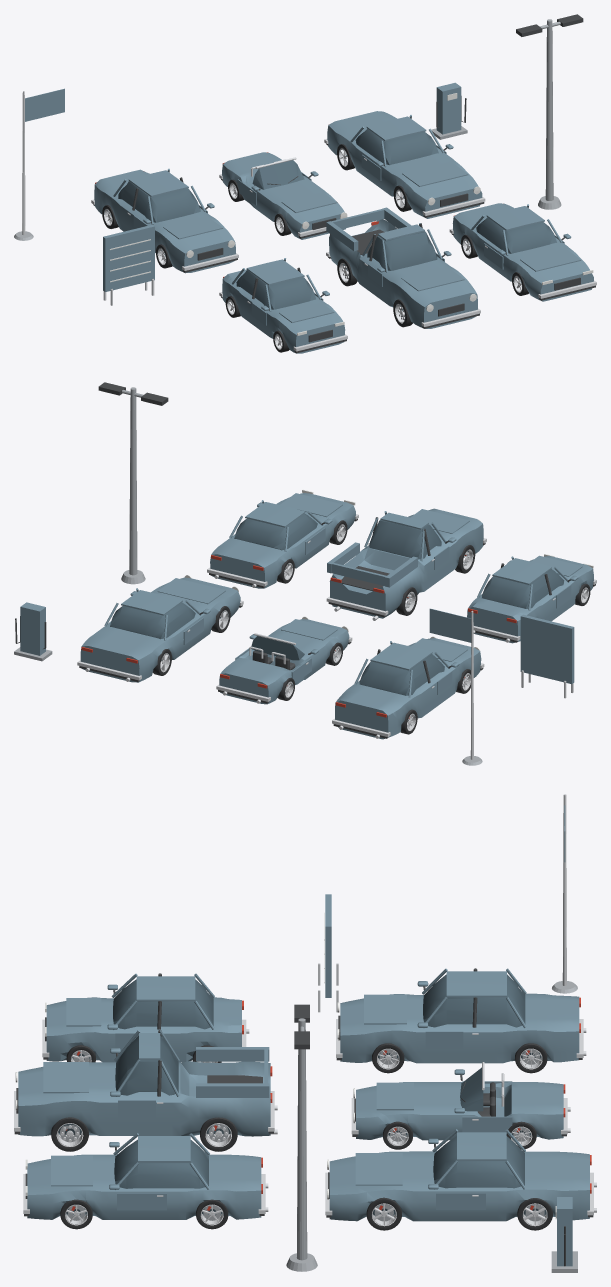
File: road-car-showroom-lineup-classic-forecourt-2acd6293__15172.glb
3 views of the same model, one above another, from view 1: azimuth 30°, elevation 25°; view 2: azimuth 150°, elevation 25°; view 3: azimuth 270°, elevation 25° (orthographic). The views are drawn at different scales.
Parts seen in each view (by area): view 1: 004-classic-1950s-pickup/0, 002-classic-1970s-muscle-coupe/0, 000-classic-1960s-saloon/0, 005-classic-1990s-sports-coupe/0, 003-classic-1980s-hot-hatch/0, 001-classic-1960s-roadster/0, 006-price-board/1, 000-classic-1960s-saloon/1, 002-classic-1970s-muscle-coupe/1, 004-classic-1950s-pickup/1, 005-classic-1990s-sports-coupe/1, 003-classic-1980s-hot-hatch/1 (+15 smaller); view 2: 004-classic-1950s-pickup/0, 002-classic-1970s-muscle-coupe/0, 000-classic-1960s-saloon/0, 005-classic-1990s-sports-coupe/0, 003-classic-1980s-hot-hatch/0, 001-classic-1960s-roadster/0, 006-price-board/1, 000-classic-1960s-saloon/1, 002-classic-1970s-muscle-coupe/1, 004-classic-1950s-pickup/1, 008-forecourt-lamp/0, 003-classic-1980s-hot-hatch/1 (+13 smaller); view 3: 004-classic-1950s-pickup/0, 002-classic-1970s-muscle-coupe/0, 000-classic-1960s-saloon/0, 005-classic-1990s-sports-coupe/0, 003-classic-1980s-hot-hatch/0, 001-classic-1960s-roadster/0, 000-classic-1960s-saloon/1, 002-classic-1970s-muscle-coupe/1, 003-classic-1980s-hot-hatch/1, 005-classic-1990s-sports-coupe/1, 008-forecourt-lamp/0, 004-classic-1950s-pickup/1 (+16 smaller).
Boxes of the visible parts, bbox=[...] form: 004-classic-1950s-pickup/0: bbox=[326, 207, 477, 328]; 002-classic-1970s-muscle-coupe/0: bbox=[327, 111, 482, 218]; 000-classic-1960s-saloon/0: bbox=[94, 168, 235, 273]; 005-classic-1990s-sports-coupe/0: bbox=[452, 203, 593, 301]; 003-classic-1980s-hot-hatch/0: bbox=[222, 258, 345, 353]; 001-classic-1960s-roadster/0: bbox=[222, 152, 345, 239]; 006-price-board/1: bbox=[103, 224, 154, 291]; 000-classic-1960s-saloon/1: bbox=[118, 181, 200, 222]; 002-classic-1970s-muscle-coupe/1: bbox=[355, 128, 438, 165]; 004-classic-1950s-pickup/1: bbox=[367, 231, 437, 270]; 005-classic-1990s-sports-coupe/1: bbox=[476, 217, 556, 253]; 003-classic-1980s-hot-hatch/1: bbox=[236, 270, 315, 309]; 004-classic-1950s-pickup/0: bbox=[327, 508, 483, 618]; 002-classic-1970s-muscle-coupe/0: bbox=[80, 577, 240, 682]; 000-classic-1960s-saloon/0: bbox=[335, 638, 481, 739]; 005-classic-1990s-sports-coupe/0: bbox=[210, 493, 355, 588]; 003-classic-1980s-hot-hatch/0: bbox=[467, 556, 593, 643]; 001-classic-1960s-roadster/0: bbox=[219, 619, 349, 704]; 006-price-board/1: bbox=[520, 614, 574, 684]; 000-classic-1960s-saloon/1: bbox=[359, 654, 444, 695]; 002-classic-1970s-muscle-coupe/1: bbox=[110, 602, 195, 639]; 004-classic-1950s-pickup/1: bbox=[369, 520, 441, 559]; 008-forecourt-lamp/0: bbox=[121, 387, 145, 584]; 003-classic-1980s-hot-hatch/1: bbox=[482, 569, 564, 608]; 004-classic-1950s-pickup/0: bbox=[18, 1030, 270, 1136]; 002-classic-1970s-muscle-coupe/0: bbox=[329, 1129, 589, 1221]; 000-classic-1960s-saloon/0: bbox=[340, 968, 579, 1063]; 005-classic-1990s-sports-coupe/0: bbox=[27, 1133, 261, 1219]; 003-classic-1980s-hot-hatch/0: bbox=[46, 973, 241, 1062]; 001-classic-1960s-roadster/0: bbox=[356, 1069, 563, 1140]; 000-classic-1960s-saloon/1: bbox=[423, 974, 525, 1027]; 002-classic-1970s-muscle-coupe/1: bbox=[433, 1136, 524, 1188]; 003-classic-1980s-hot-hatch/1: bbox=[113, 979, 213, 1029]; 005-classic-1990s-sports-coupe/1: bbox=[114, 1139, 208, 1188]; 008-forecourt-lamp/0: bbox=[286, 1018, 317, 1271]; 004-classic-1950s-pickup/1: bbox=[115, 1035, 178, 1095].
Bounding box in the file's own units: 13.63 × 5.15 × 11.09.
